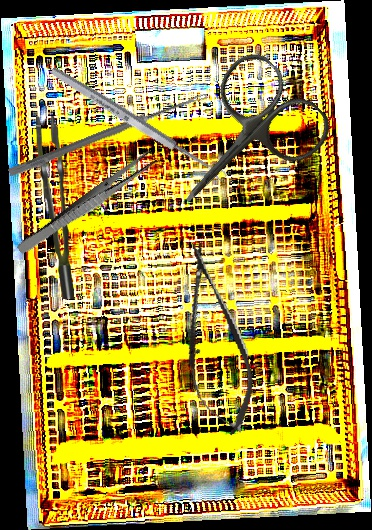Dressing Forceps: (15, 148, 159, 260)
Iris Scissors: (142, 43, 340, 243)
Micro Scissor: (165, 236, 264, 441)
Surgical Spoon: (48, 64, 229, 184), (7, 89, 209, 179)
Tissue Forceps: (36, 116, 74, 299)
